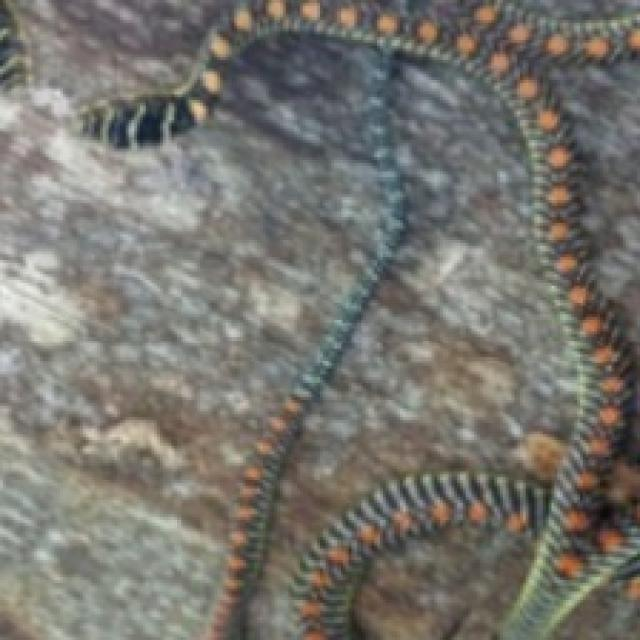paradise tree snake: (0, 0, 577, 637), (249, 0, 637, 637), (357, 506, 531, 637), (77, 63, 217, 151)
